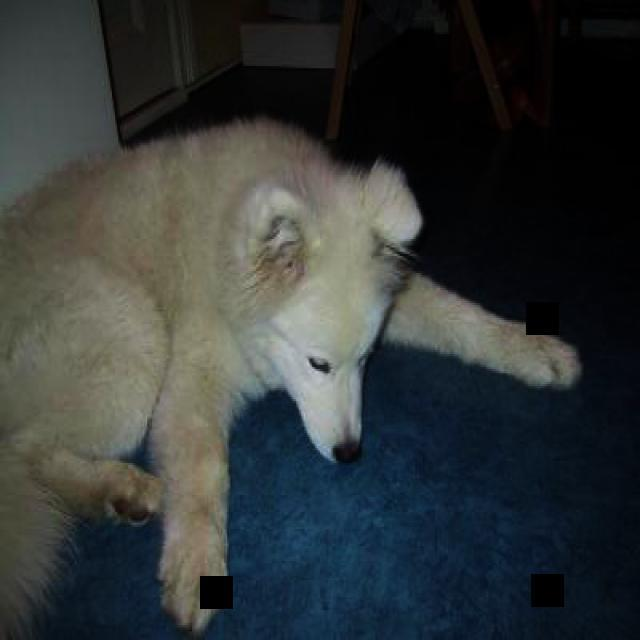adult_dog: (2, 120, 583, 629)
